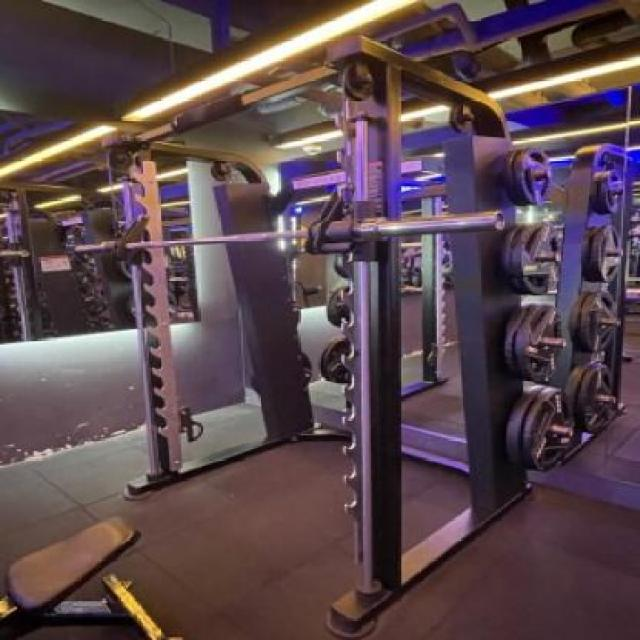smith machine: (100, 35, 535, 636)
